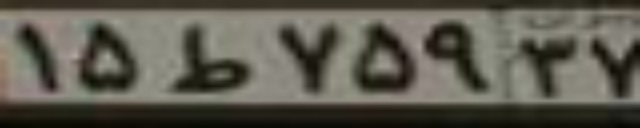1: (15, 24, 58, 91)
3: (517, 30, 580, 98)
5: (72, 22, 142, 89), (348, 22, 415, 91)
7: (283, 19, 335, 93), (587, 33, 639, 99)
9: (420, 19, 489, 93)
taa: (168, 22, 250, 93)
